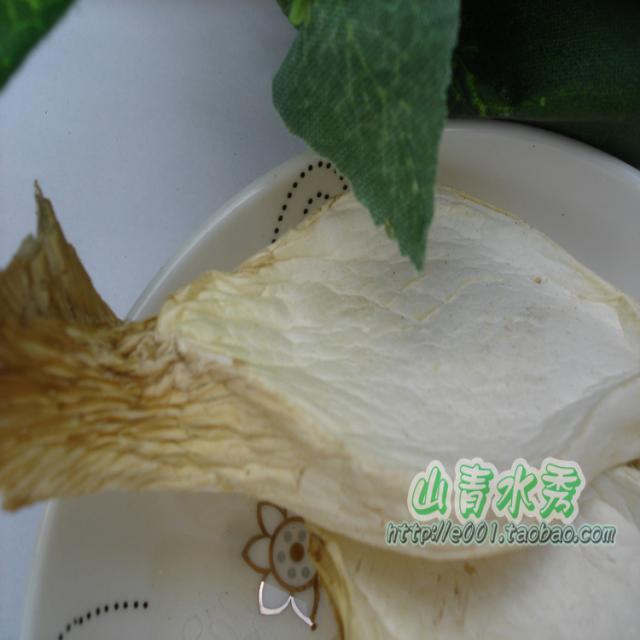Pleurotus eryngii: (0, 184, 640, 554)
